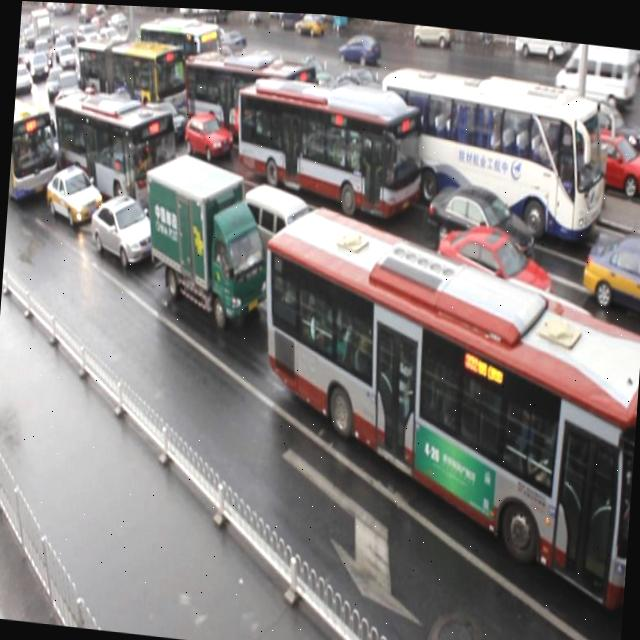bus: (137, 144, 271, 328)
car: (327, 235, 448, 351), (434, 214, 555, 313), (422, 173, 536, 268), (578, 221, 640, 324), (158, 170, 236, 250), (89, 187, 158, 266), (44, 154, 106, 225), (183, 106, 235, 161), (136, 99, 188, 150)
truck: (474, 265, 625, 440), (238, 179, 327, 287)
van: (246, 193, 640, 600), (372, 62, 610, 238), (232, 67, 427, 219), (45, 89, 183, 223), (178, 47, 317, 159), (76, 36, 190, 114), (8, 92, 63, 202)
